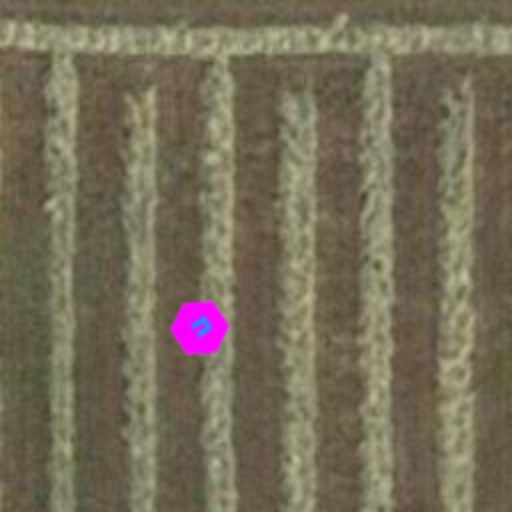hexagon: (158, 286, 242, 370)
